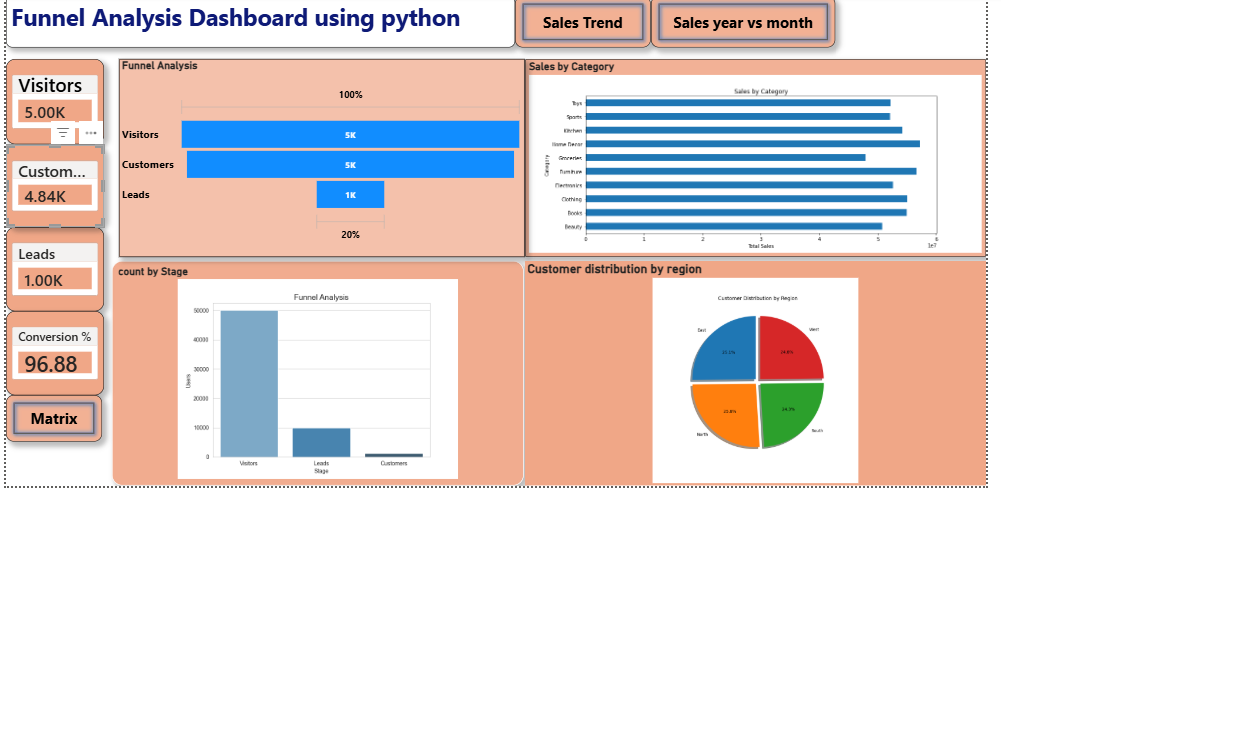

The page's visual inventory and layout, read from the dashboard file:
{"tool":"powerbi","page":{"name":"Dashboard","canvas":[2000,1000],"ordinal":0},"visuals":[{"type":"pythonVisual","title":"Sales by Category","fields":{"Values":["Sum(df.Sales)","df.Category"]},"box":[1059.2,129.4,940.8,403.5],"z":0},{"type":"pythonVisual","title":"count by Stage","fields":{"Values":["funnel_data.Stage","Sum(funnel_data.count)"]},"box":[217.1,541.7,839.9,458.3],"z":1000},{"type":"funnel","title":"Funnel Analysis","fields":{"Category":["funnel_data.Stage"],"Y":["Sum(funnel_data.count)"]},"box":[230.1,129,828,404.3],"z":4000},{"type":"cardVisual","fields":{"Rows":["kpi_data.Metric"],"Data":["Sum(kpi_data.Value)"]},"box":[0,129,200,174.2],"z":4002},{"type":"cardVisual","fields":{"Rows":["kpi_data.Metric"],"Data":["Sum(kpi_data.Value)"]},"box":[0,303.2,200,167.7],"z":4003},{"type":"cardVisual","fields":{"Data":["Sum(kpi_data.Value)"],"Rows":["kpi_data.Metric"]},"box":[0,471,200,172],"z":4004},{"type":"cardVisual","fields":{"Data":["Sum(kpi_data.Value)"],"Rows":["kpi_data.Metric"]},"box":[0,643,200,172],"z":4005},{"type":"textbox","box":[0,0,1038.7,105.4],"z":4006},{"type":"actionButton","box":[0,815.1,195.7,94.6],"z":4007},{"type":"pythonVisual","title":"Customer distribution by region","fields":{"Values":["cleaned_data.Region","cleaned_data.Customer Name"]},"box":[1059.2,541.7,940.8,458.3],"z":4008},{"type":"actionButton","box":[1038.7,0,277.4,105.4],"z":4009},{"type":"actionButton","box":[1316.1,0,376.3,105.4],"z":4010}]}

Visuals, with their boxes on the page's 2000x1000 design canvas (x1, y1, x2, y2). These are canvas units, not pixel positions in the 1252x756 screenshot, which may show the page scaled, cropped or inside an application window:
"Sales by Category" pythonVisual: <box>1059,129,2000,533</box>
"count by Stage" pythonVisual: <box>217,542,1057,1000</box>
"Funnel Analysis" funnel: <box>230,129,1058,533</box>
cardVisual - kpi_data.Metric x Sum(kpi_data.Value): <box>0,129,200,303</box>
cardVisual - kpi_data.Metric x Sum(kpi_data.Value): <box>0,303,200,471</box>
cardVisual - Sum(kpi_data.Value) x kpi_data.Metric: <box>0,471,200,643</box>
cardVisual - Sum(kpi_data.Value) x kpi_data.Metric: <box>0,643,200,815</box>
textbox: <box>0,0,1039,105</box>
actionButton: <box>0,815,196,910</box>
"Customer distribution by region" pythonVisual: <box>1059,542,2000,1000</box>
actionButton: <box>1039,0,1316,105</box>
actionButton: <box>1316,0,1692,105</box>
